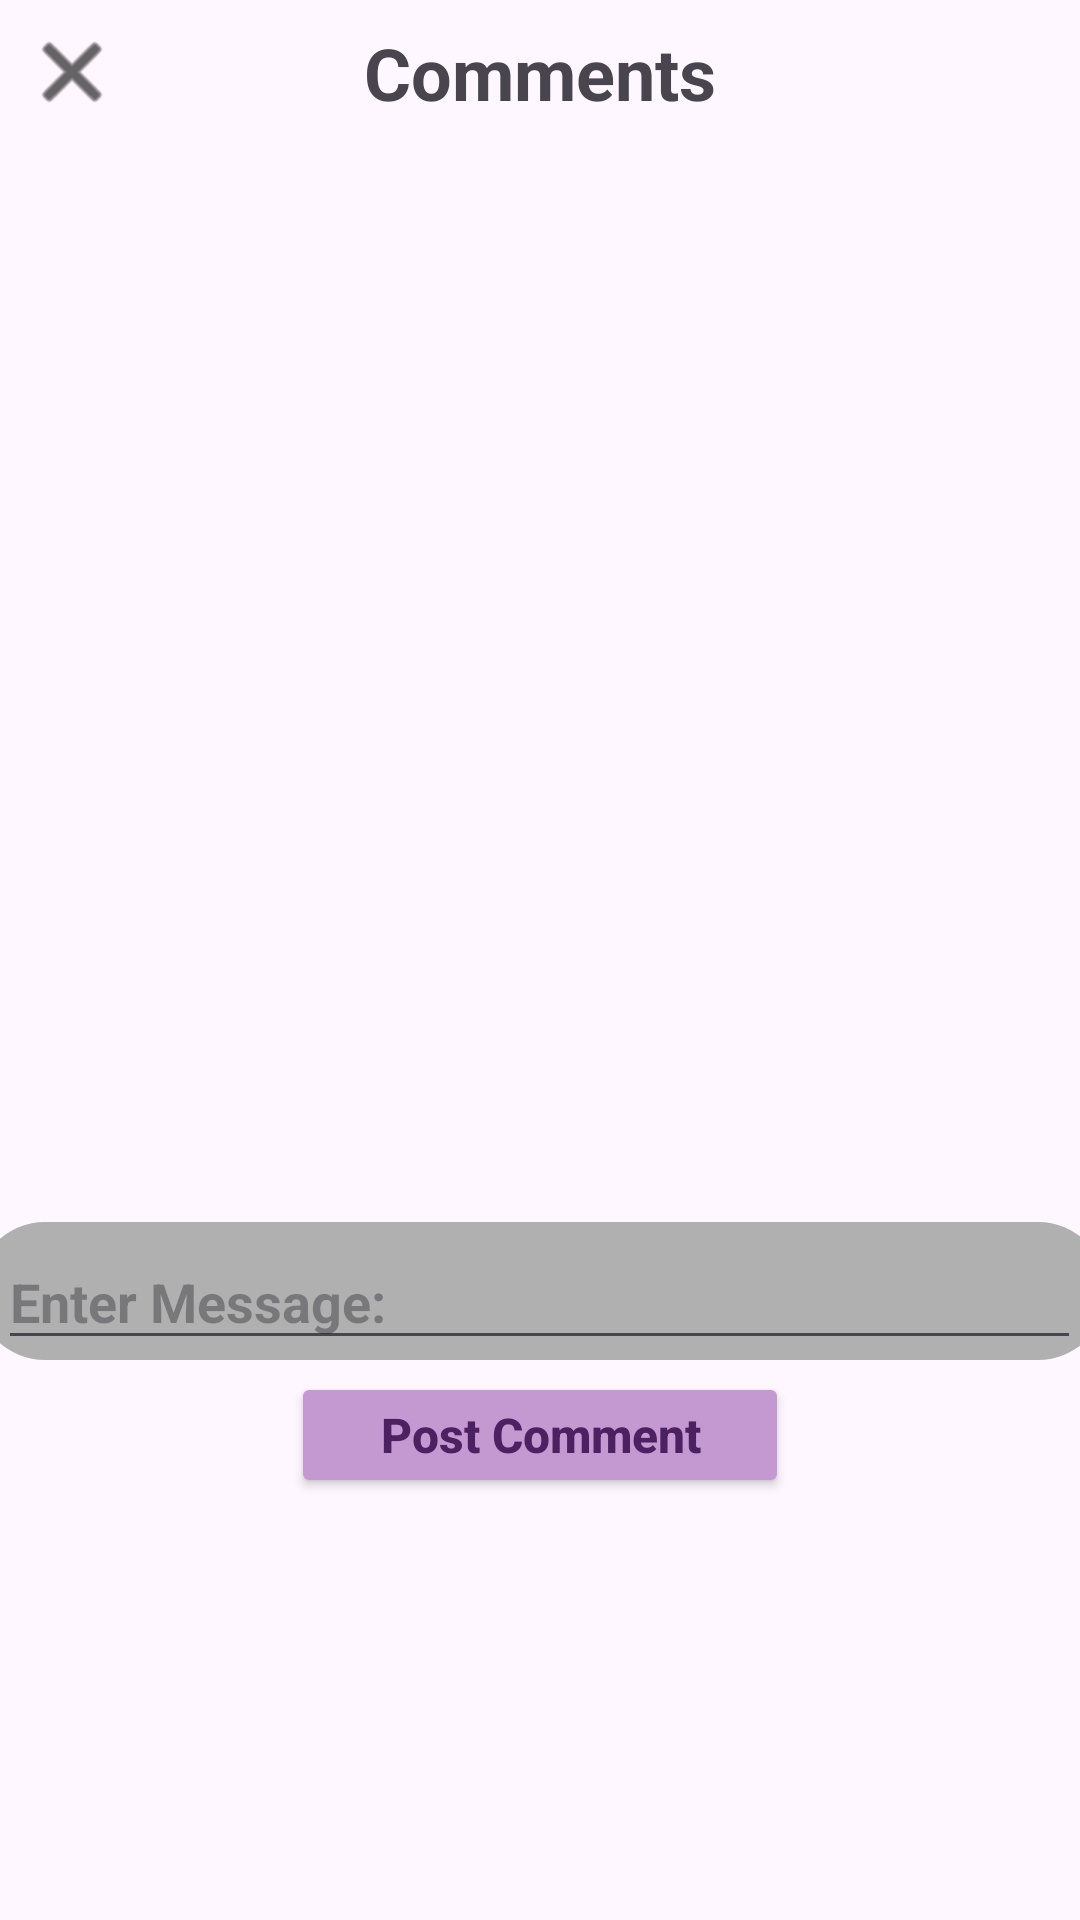

Icons on this 1080*1920 Android screen, each with its box as (x1, y1, x2, y2):
close clear cancel: (42, 42, 102, 102)
